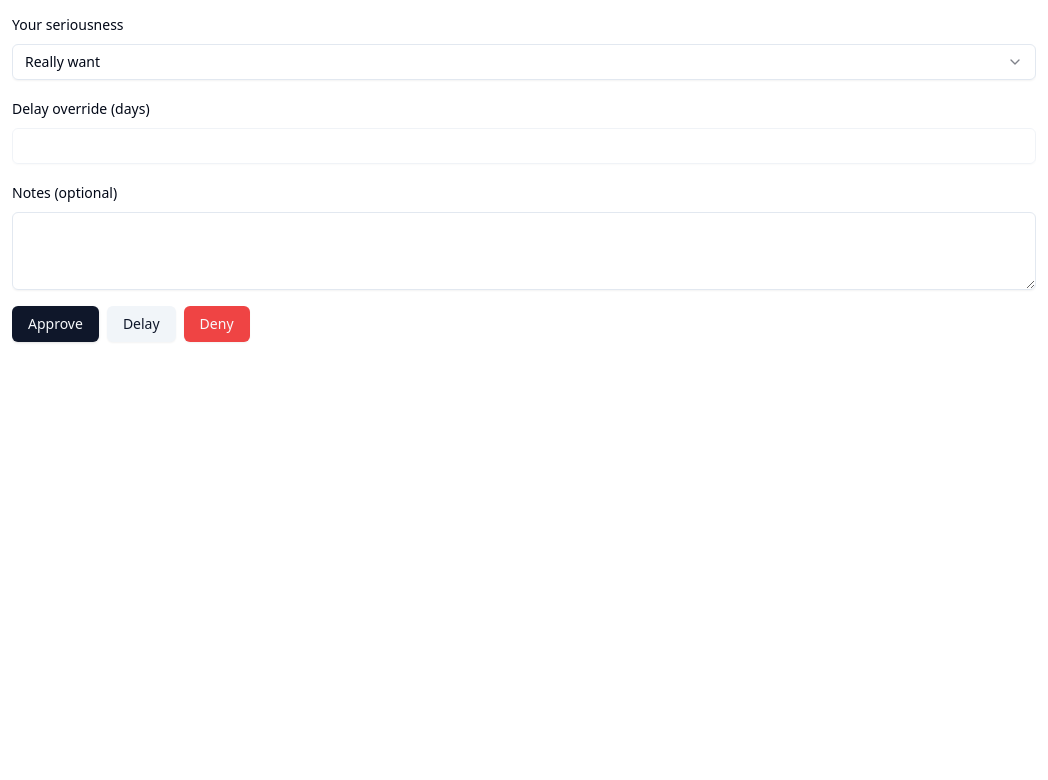
Test: ApproverAction › shows a destructive toast on 409 IllegalTransition
Click the button "Deny" at (217, 324), box [184,306,250,342]
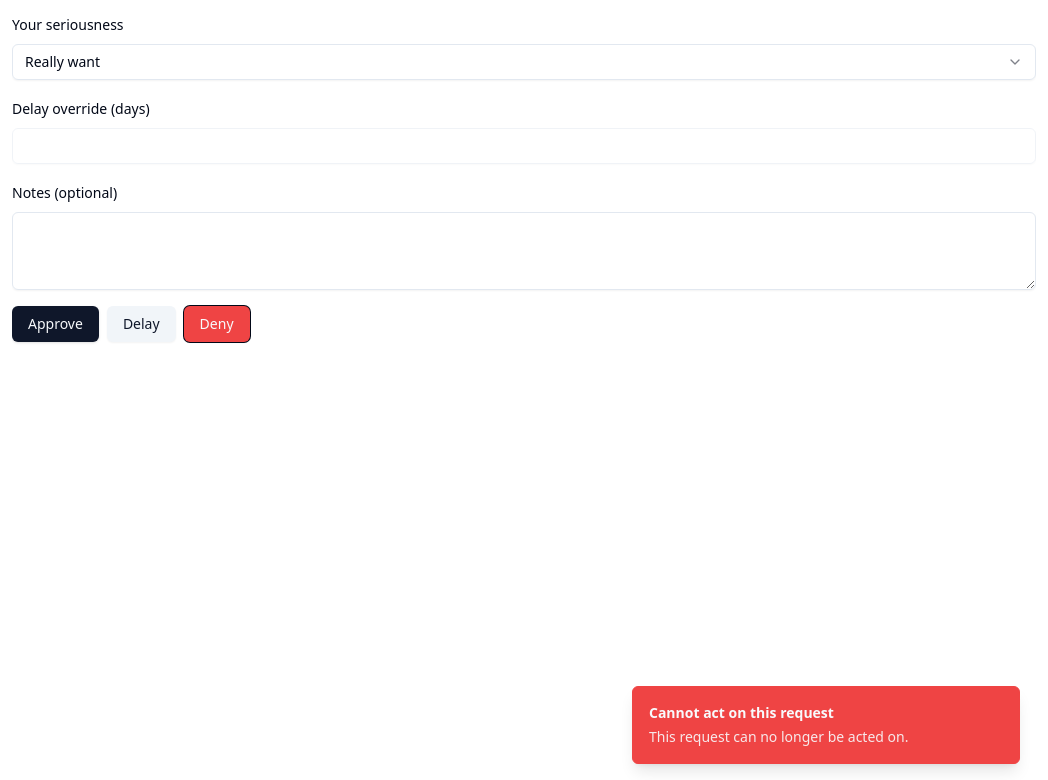
Check: the text "This request can no longer be acted on." is shown, box [649,727,908,747]
